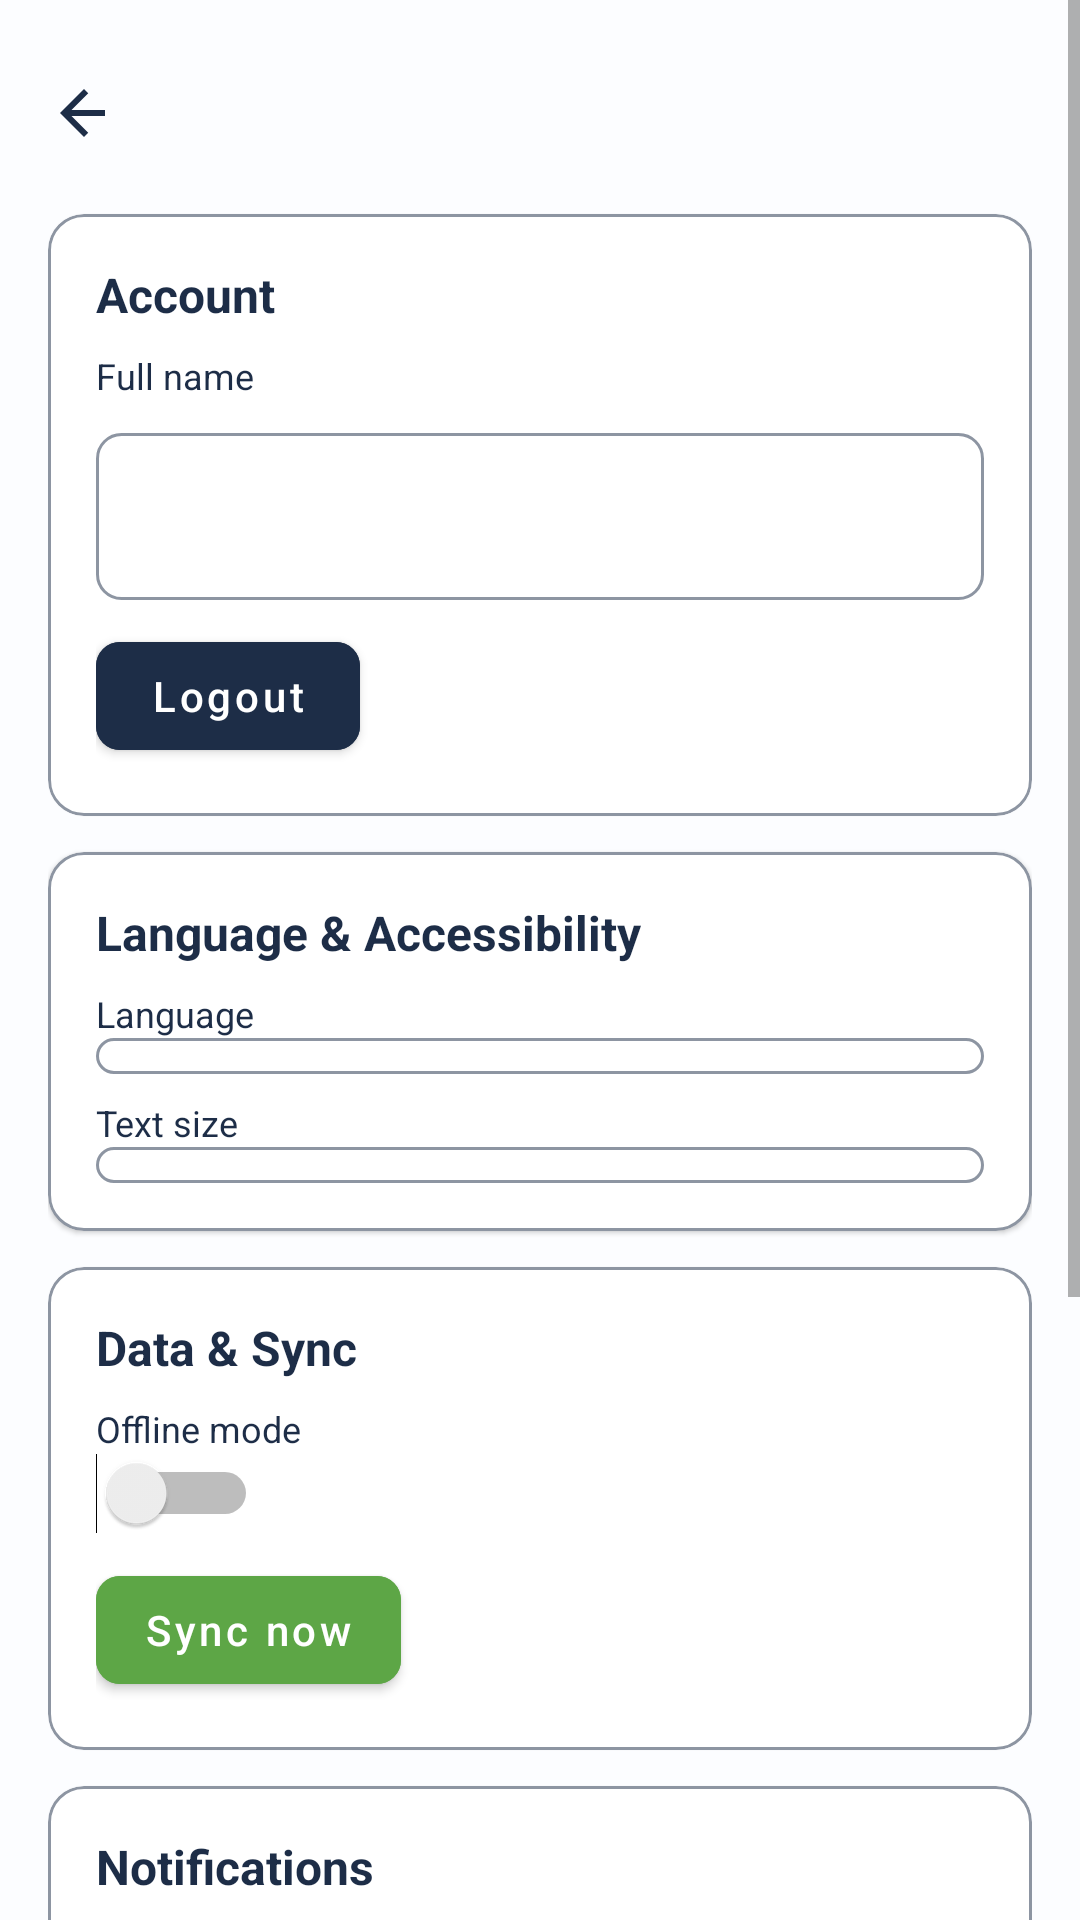

Where to tap for icons on this 1080 × 1920 app screen, as point (x, y):
arrow back: point (82, 113)
